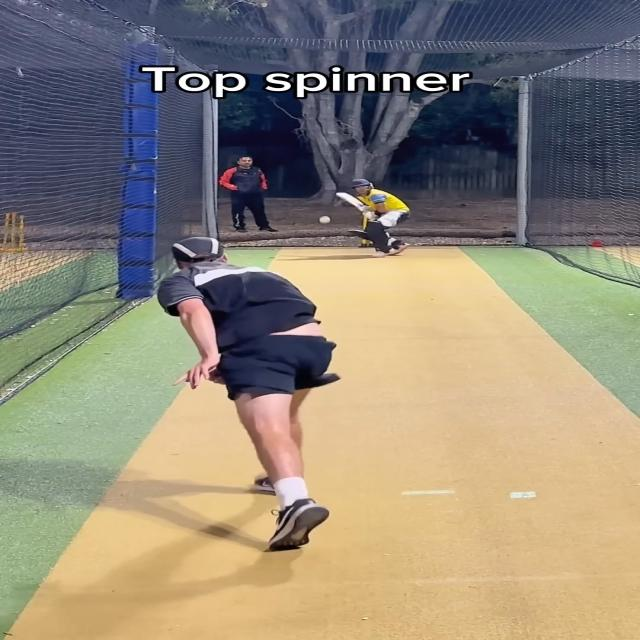Cricket ball: (318, 216, 331, 224)
